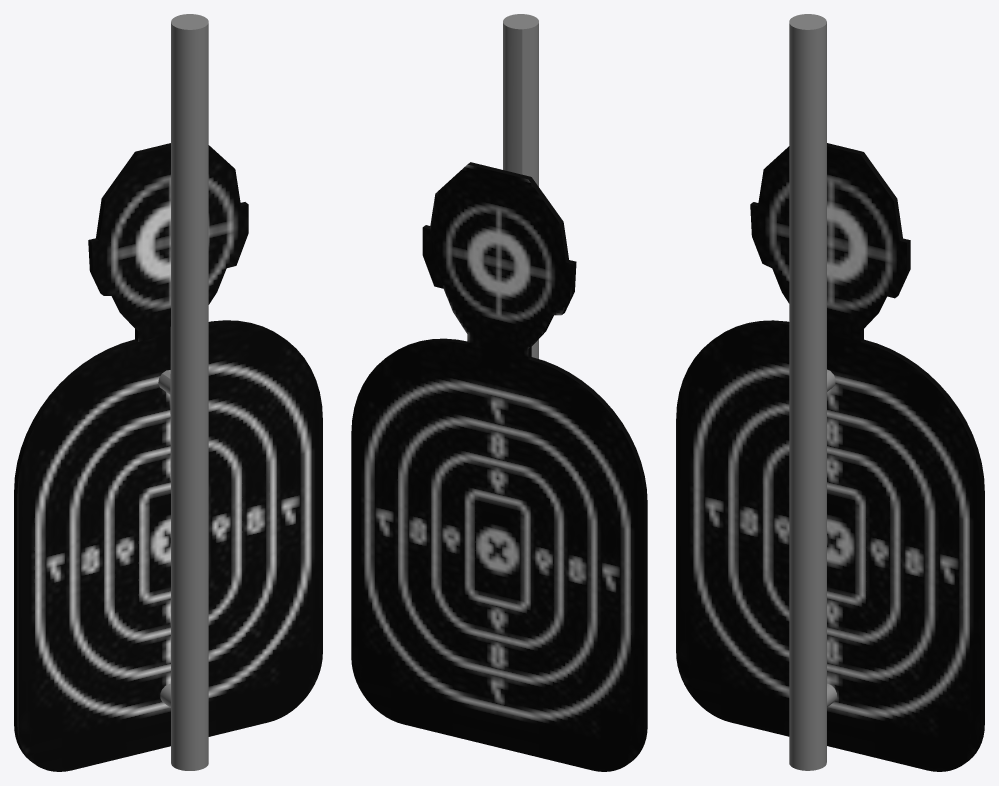
The model's file is STOOTING _DUMMY_REAL.fbx.
3 renders of one model, left to right at view 1: azimuth 30°, elevation 25°; view 2: azimuth 150°, elevation 25°; view 3: azimuth 330°, elevation 25°, orthographic. The views are drawn at different scales.
Parts seen in each view (by area): view 1: OWER_SUPPORT.002, OWER_SUPPORT.001; view 2: OWER_SUPPORT.002, OWER_SUPPORT.001; view 3: OWER_SUPPORT.002, OWER_SUPPORT.001.
Boxes of the visible parts, x1,y1,x2,y2 form: OWER_SUPPORT.002: (14,143,322,771); OWER_SUPPORT.001: (158,14,208,770); OWER_SUPPORT.002: (351,162,647,771); OWER_SUPPORT.001: (503,14,538,358); OWER_SUPPORT.002: (676,143,984,771); OWER_SUPPORT.001: (789,14,836,770).
Bounding box in the file's own units: 174 × 403 × 32.58.
2 materials, 1 textured.
